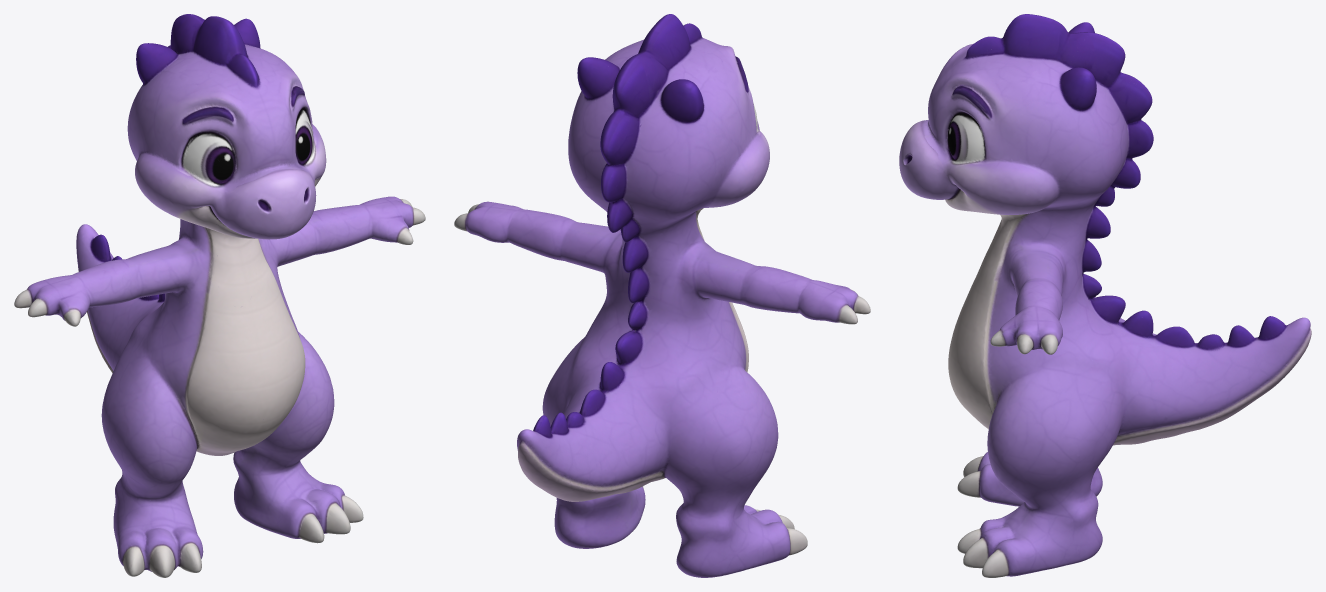
The model's file is Dinosaurio.fbx.
The picture shows the model from 3 angles, left to right: view 1: azimuth 30°, elevation 25°; view 2: azimuth 150°, elevation 25°; view 3: azimuth 270°, elevation 25°; orthographic projection. The views are drawn at different scales.
Parts seen in each view (by area): view 1: Mesh_0; view 2: Mesh_0; view 3: Mesh_0.
Boxes of the visible parts, x1,y1,x2,y2 form: Mesh_0: [14, 14, 425, 577]; Mesh_0: [454, 14, 870, 577]; Mesh_0: [899, 14, 1311, 577].
Bounding box in the file's own units: 153 × 190 × 139.
Materials: 1 (1 with a texture image).
